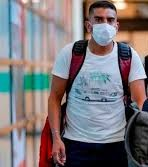with_mask: (86, 4, 122, 47)
